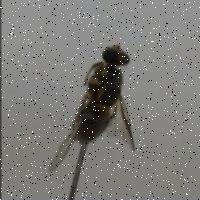Oriental-fruit-fly: (46, 40, 138, 171)
